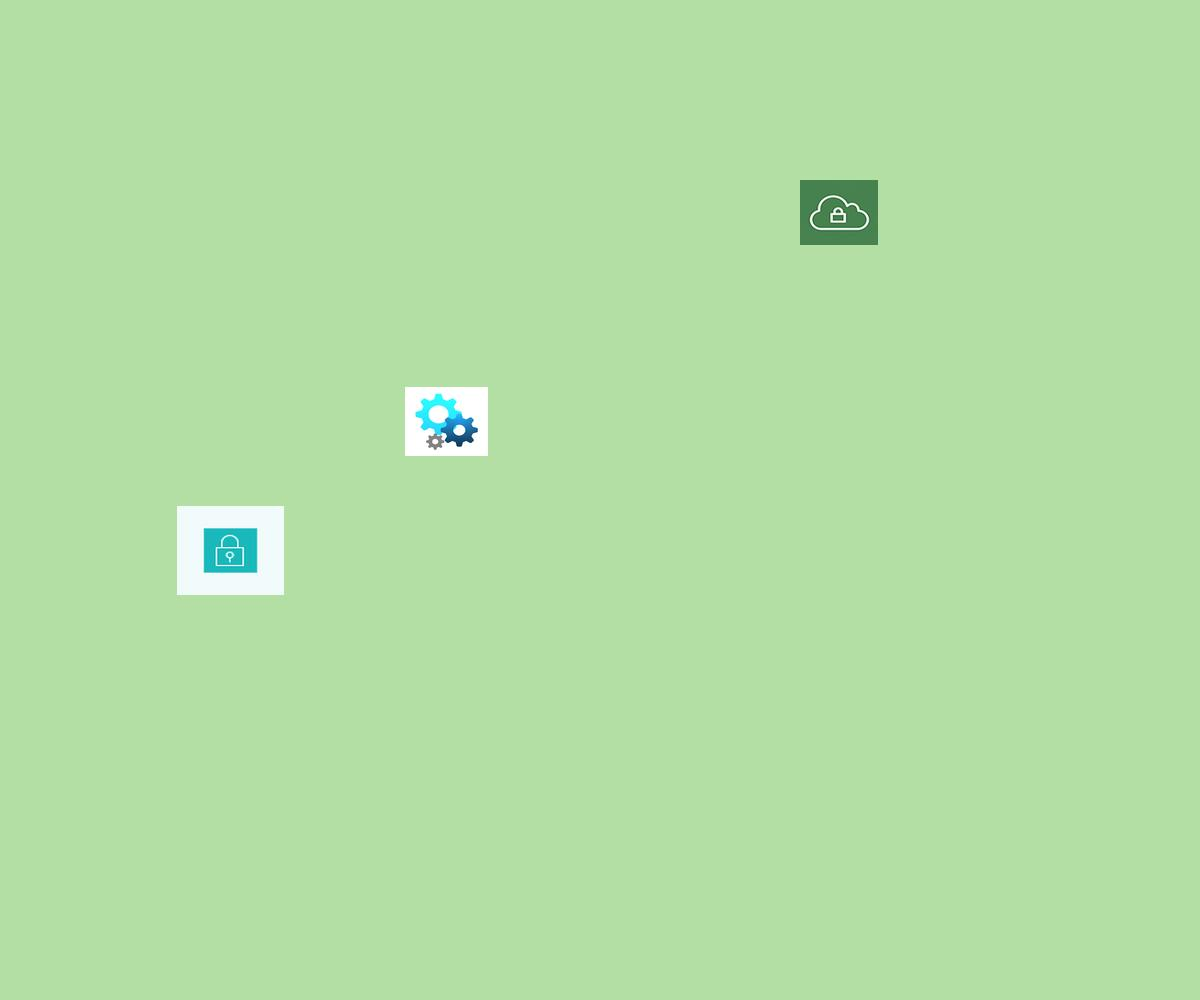AWS-Private-subnet: (177, 506, 284, 595)
AWS-Private_vpc: (800, 180, 878, 245)
Azure_api: (405, 387, 488, 456)
